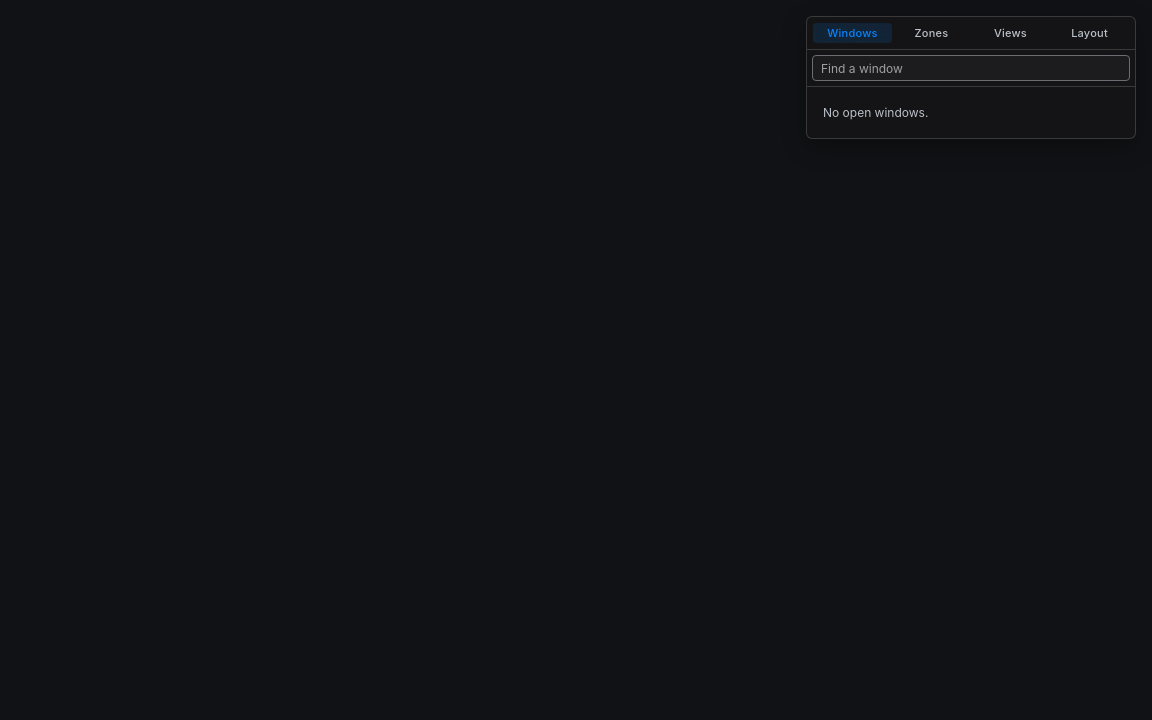
spatial desktop: no persistent bottom controls › opens the Windows panel from the shortcut event; the minimap is gone (owner, 2026-11-17)
This screenshot has width=1152, height=720.
Expected: the dialog named "Spatial desktop panel" is shown, [806, 16, 1136, 139]
What coordinates should you click on to do the following:
click the tab "Layout"
I would click on:
 (1090, 33)
Its box is [1050, 23, 1129, 43].
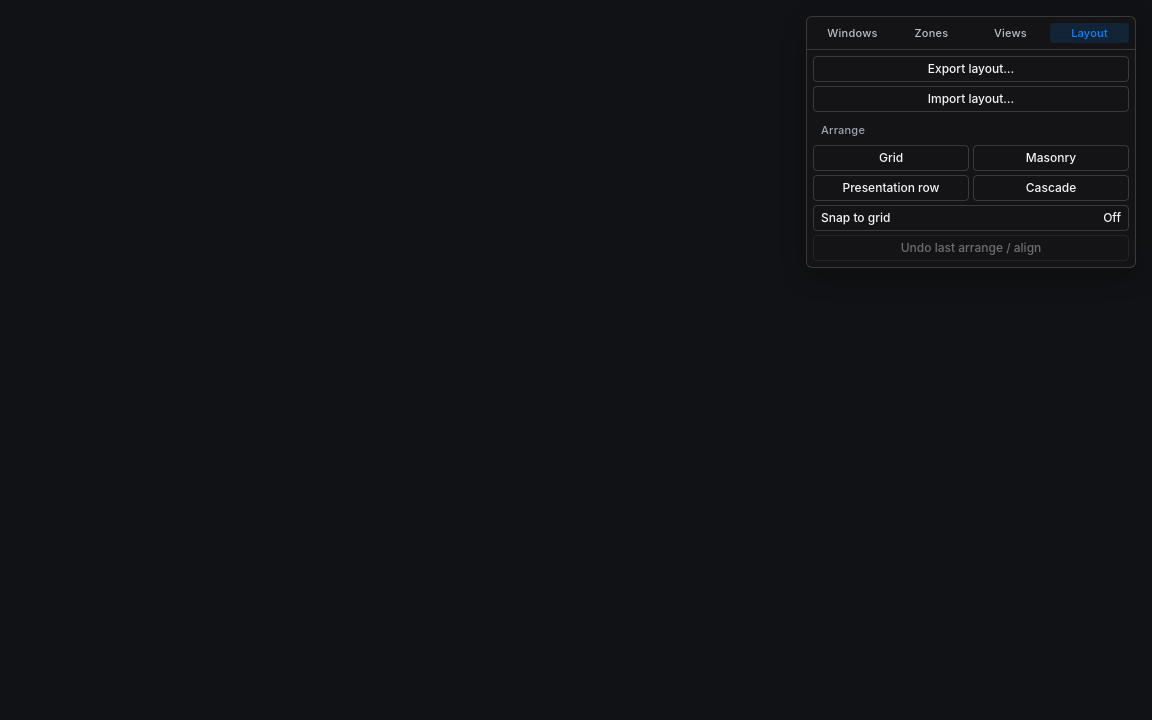
Expected: the button "Grid" is shown, [813, 144, 969, 170]
